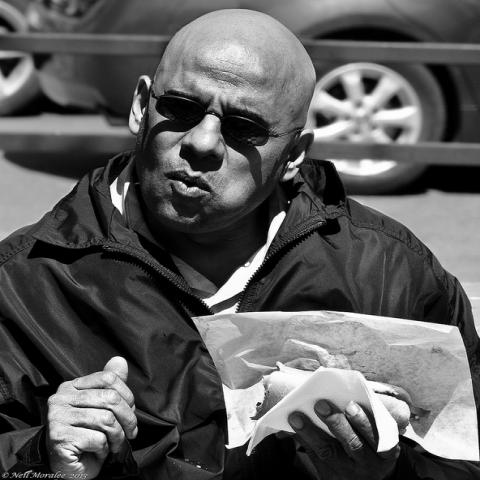car: (30, 0, 478, 197)
